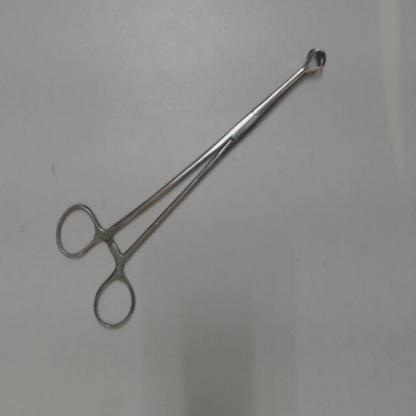8 Babcock Tissue Forceps: (50, 42, 332, 336)
